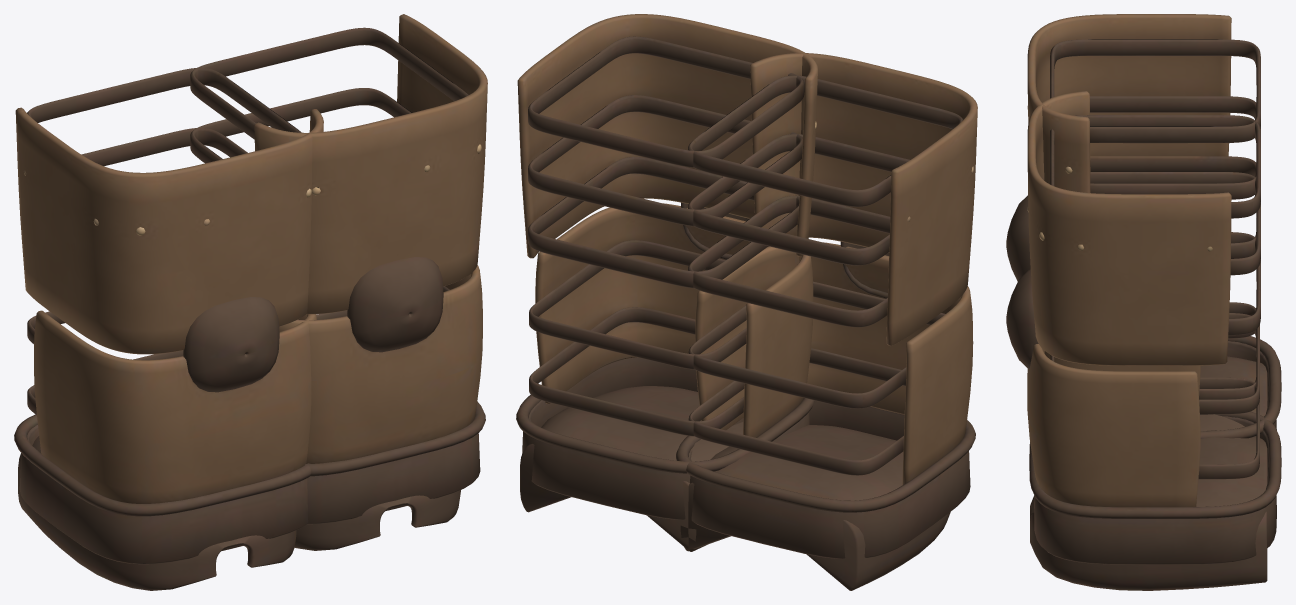
File: leather_greaves.fbx
The picture shows the model from 3 angles, left to right: view 1: azimuth 30°, elevation 25°; view 2: azimuth 150°, elevation 25°; view 3: azimuth 270°, elevation 25°; orthographic projection. The views are drawn at different scales.
Visible parts, largest first — view 1: RightLowerLeg, RightUpperLeg, LeftUpperLeg, LeftLowerLeg, RightFoot, LeftFoot; view 2: RightLowerLeg, RightUpperLeg, LeftUpperLeg, LeftLowerLeg, RightFoot, LeftFoot; view 3: LeftLowerLeg, LeftUpperLeg, RightUpperLeg, LeftFoot, RightLowerLeg, RightFoot.
Part boxes in pixels (x1,y1,x2,y2): RightLowerLeg: (14,297,316,564); RightUpperLeg: (15,67,323,354); LeftUpperLeg: (190,14,487,314); LeftLowerLeg: (279,257,485,524); RightFoot: (18,436,296,590); LeftFoot: (294,490,460,550); RightLowerLeg: (676,241,975,558); RightUpperLeg: (688,53,977,345); LeftUpperLeg: (517,14,817,288); LeftLowerLeg: (516,202,814,519); RightFoot: (680,425,950,590); LeftFoot: (520,386,743,551); LeftLowerLeg: (1006,269,1281,564); LeftUpperLeg: (1027,91,1260,365); RightUpperLeg: (1027,14,1260,258); LeftFoot: (1030,430,1267,590); RightLowerLeg: (1006,195,1281,438); RightFoot: (1200,356,1267,431).
Bounding box in the file's own units: 2.43 × 2.51 × 1.54.
1 material, 1 textured.
